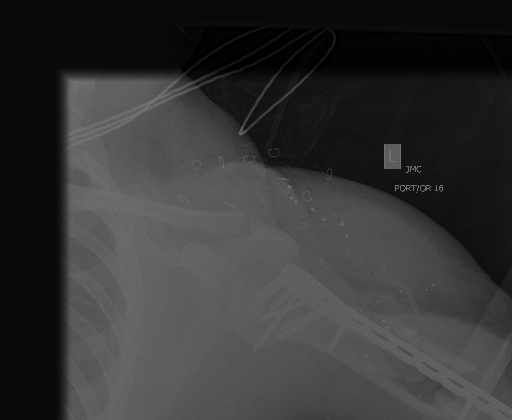implant: (246, 262, 510, 419)
